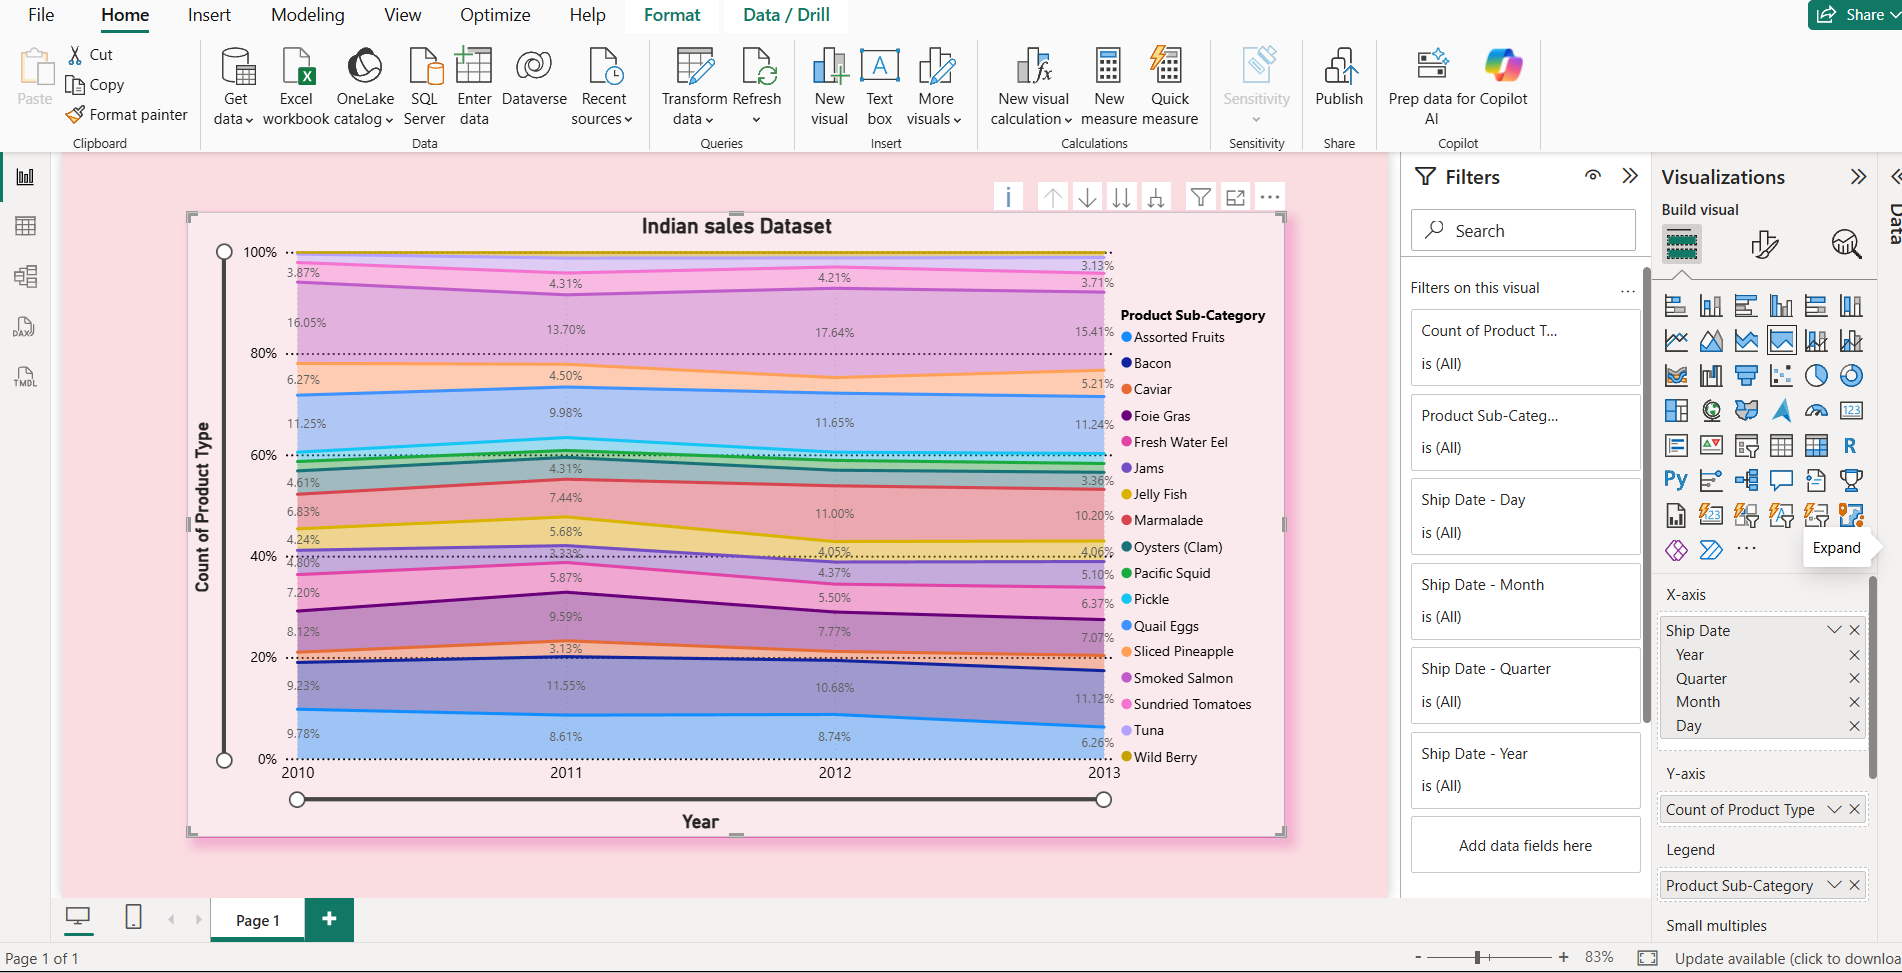

The dashboard page shown, as its layout file describes it:
{"tool":"powerbi","page":{"name":"Page 1","canvas":[1280,720],"ordinal":0},"visuals":[{"type":"hundredPercentStackedAreaChart","title":"Indian sales Dataset","fields":{"Category":["retails.Ship Date.Variation.Date Hierarchy.Year","retails.Ship Date.Variation.Date Hierarchy.Quarter","retails.Ship Date.Variation.Date Hierarchy.Month","retails.Ship Date.Variation.Date Hierarchy.Day"],"Series":["retails.Product Sub-Category"],"Y":["CountNonNull(retails.Product Type)"]},"box":[121.1,57.5,1060.2,604.1],"z":0}]}

Visuals, with their boxes on the page's 1280x720 design canvas (x1, y1, x2, y2). These are canvas units, not pixel positions in the 1902x973 screenshot, which may show the page scaled, cropped or inside an application window:
"Indian sales Dataset" hundredPercentStackedAreaChart: 121, 58, 1181, 662
